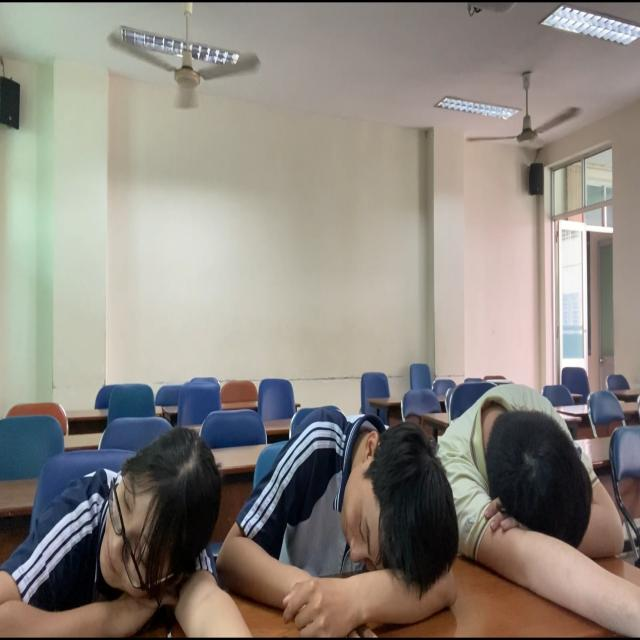sleep: (431, 384, 640, 633), (237, 408, 459, 632), (1, 422, 233, 635)
